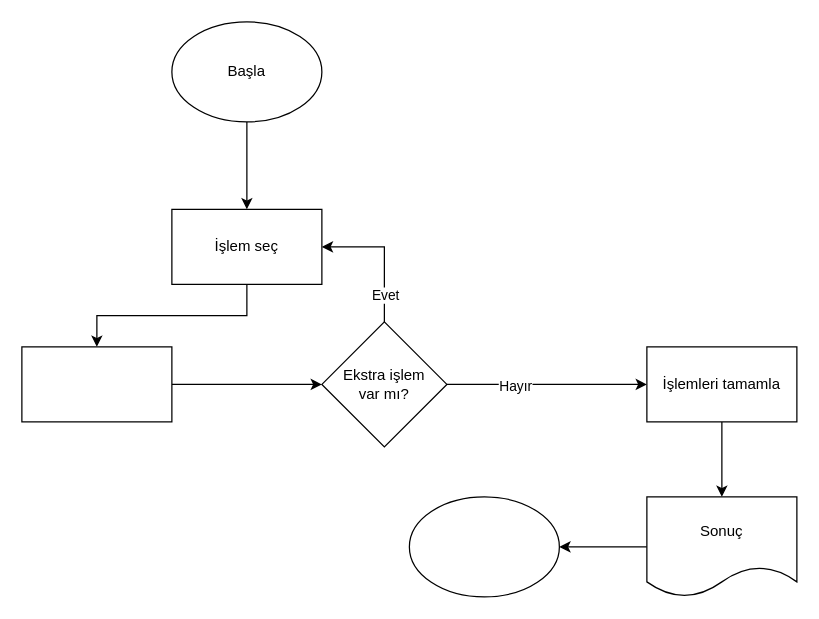
This 819x619 diagram has some shape labels left out. The shapes that lost their labels are listed below. From the top down, each one's centre as x and y in pixels, then its label:
At (96,384): "Değer gir".
At (483,546): "Dur".
